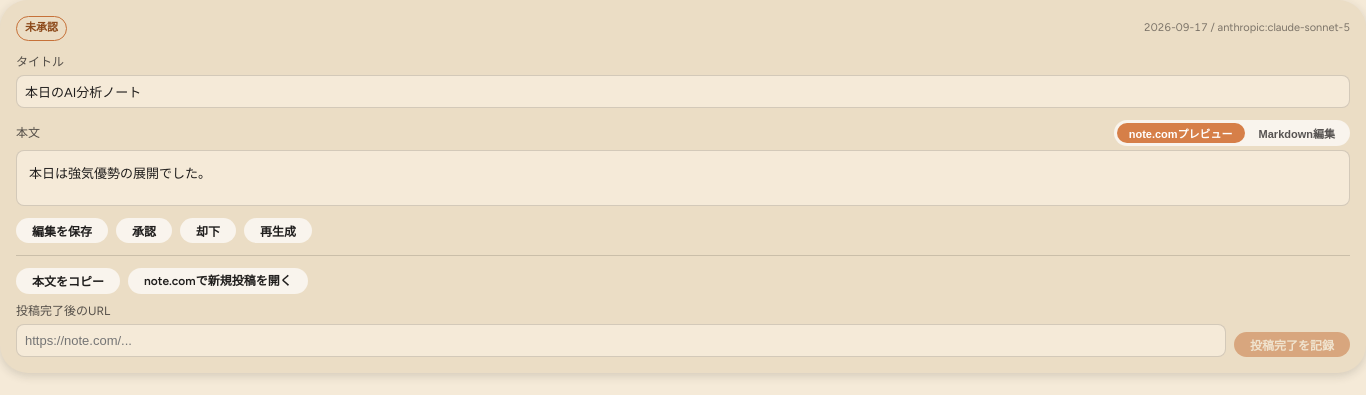
Scenario: DailyNoteReview › 承認ボタンでステータスが承認済みになる
Check: the field showing "本日のAI分析ノート" is shown, box [16,74,1350,108]
Click the button "承認".
click(144, 230)  # box [116,218,172,243]
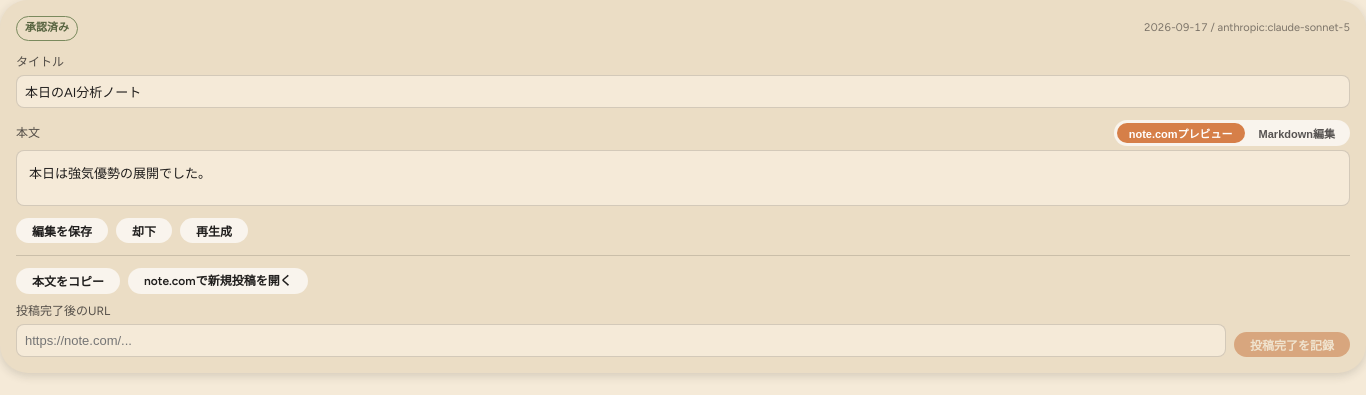
Check: the text "承認済み" is shown, box [16,16,78,40]
